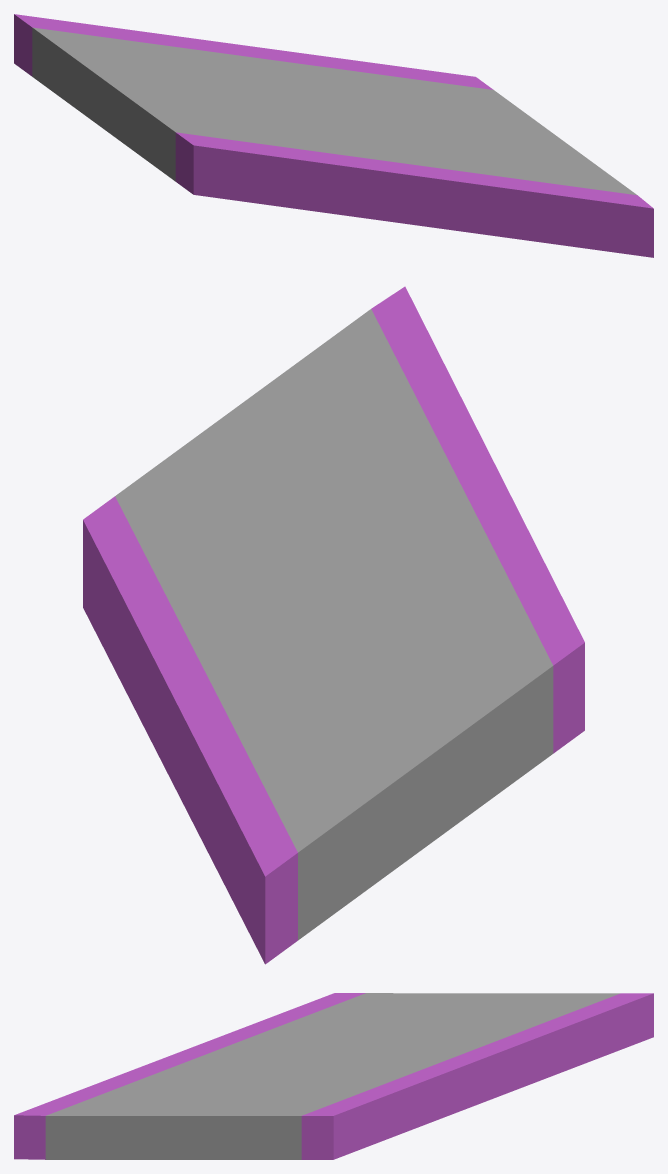
Rendered from turn.fbx.
3 renders of one model, top to bottom at view 1: azimuth 30°, elevation 25°; view 2: azimuth 150°, elevation 25°; view 3: azimuth 270°, elevation 25°, orthographic. The views are drawn at different scales.
Visible parts, largest first — view 1: Cube.001; view 2: Cube.001; view 3: Cube.001.
Part boxes in pixels (left/top/right/bottom): Cube.001: left=14, top=14, right=653, bottom=257; Cube.001: left=83, top=286, right=584, bottom=964; Cube.001: left=14, top=993, right=653, bottom=1159.
Size of the model in its own units: 241 by 40.35 by 531.
